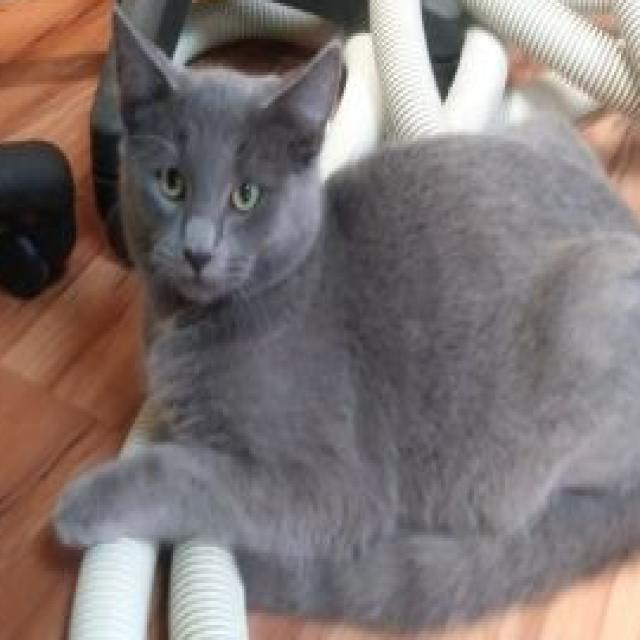Russian Blue: (47, 3, 640, 631)
